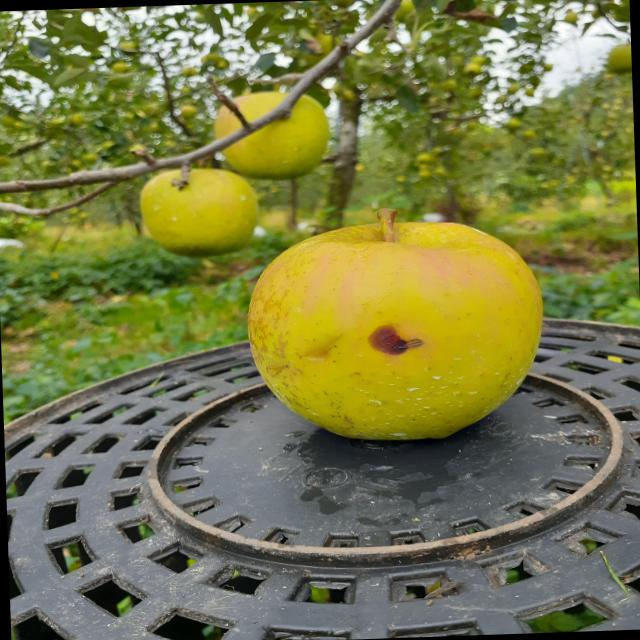rotten: (230, 203, 552, 461)
